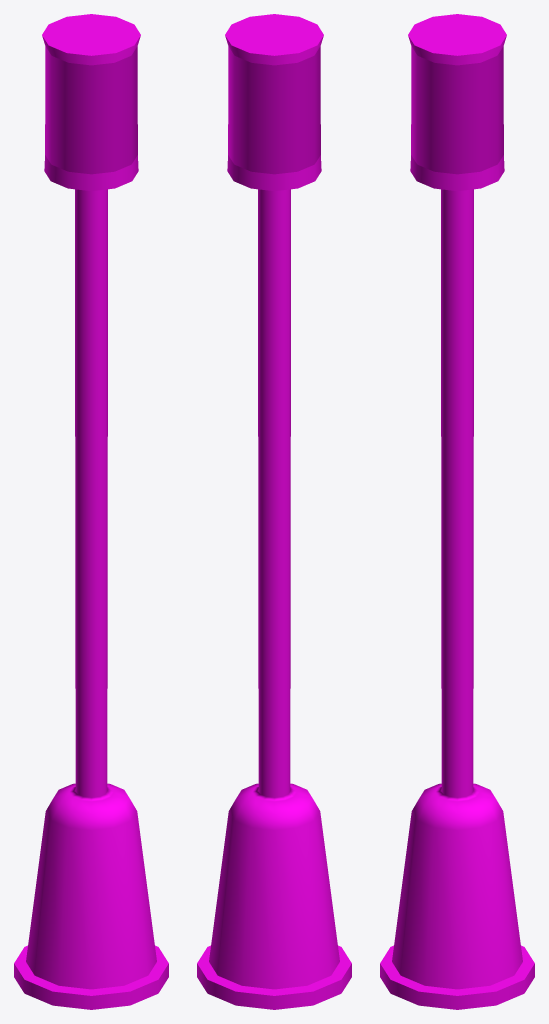
Rendered from LampPost.fbx.
3 renders of one model, left to right at view 1: azimuth 30°, elevation 25°; view 2: azimuth 150°, elevation 25°; view 3: azimuth 270°, elevation 25°, orthographic.
Parts seen in each view (by area): view 1: LampPost; view 2: LampPost; view 3: LampPost.
Boxes of the visible parts, <box> form: LampPost: <box>14,14,168,1009</box>; LampPost: <box>197,14,351,1009</box>; LampPost: <box>380,14,534,1009</box>.
Bounding box in the file's own units: 0.9398 × 6.32 × 0.9398.
